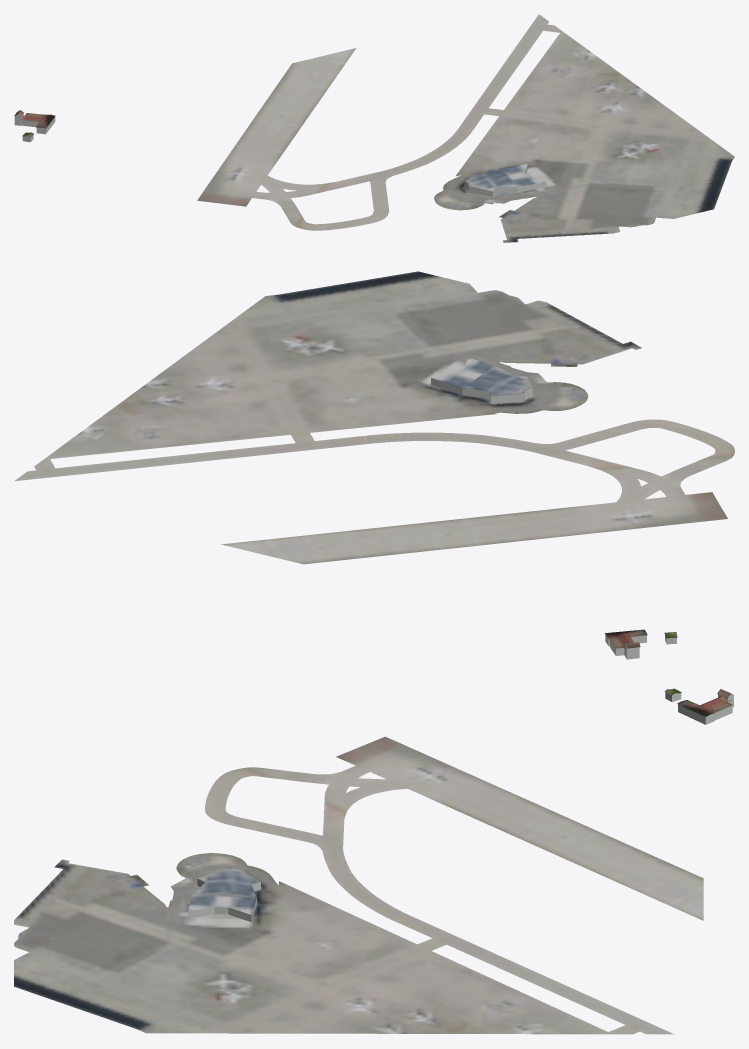
Rendered from LSGG_-3_-3.glb.
The picture shows the model from 3 angles, top to bottom: view 1: azimuth 30°, elevation 25°; view 2: azimuth 150°, elevation 25°; view 3: azimuth 270°, elevation 25°; orthographic projection. The views are drawn at different scales.
Parts seen in each view (by area): view 1: pavement_LSGG_pavement_4992_2240, building_01b4a2600c9755e4, building_41408e548e6ce168, building_e93fac7d3d7187a7, building_7f2553a06d2063a3; view 2: pavement_LSGG_pavement_4992_2240, building_01b4a2600c9755e4, building_41408e548e6ce168; view 3: pavement_LSGG_pavement_4992_2240, building_01b4a2600c9755e4, building_41408e548e6ce168, building_e93fac7d3d7187a7, building_7f2553a06d2063a3.
Part boxes in pixels (left/top/right/bottom): pavement_LSGG_pavement_4992_2240: left=200, top=14, right=734, bottom=242; building_01b4a2600c9755e4: left=464, top=163, right=545, bottom=191; building_41408e548e6ce168: left=464, top=164, right=546, bottom=204; building_e93fac7d3d7187a7: left=14, top=110, right=55, bottom=137; building_7f2553a06d2063a3: left=14, top=114, right=55, bottom=142; pavement_LSGG_pavement_4992_2240: left=14, top=271, right=734, bottom=564; building_01b4a2600c9755e4: left=431, top=357, right=532, bottom=396; building_41408e548e6ce168: left=431, top=378, right=532, bottom=412; pavement_LSGG_pavement_4992_2240: left=14, top=741, right=703, bottom=1034; building_01b4a2600c9755e4: left=188, top=867, right=260, bottom=914; building_41408e548e6ce168: left=187, top=879, right=260, bottom=921; building_e93fac7d3d7187a7: left=664, top=688, right=732, bottom=716; building_7f2553a06d2063a3: left=665, top=692, right=733, bottom=724.
Bounding box in the file's own units: 584 × 17.55 × 523.
Materials: 3 (2 with a texture image).
